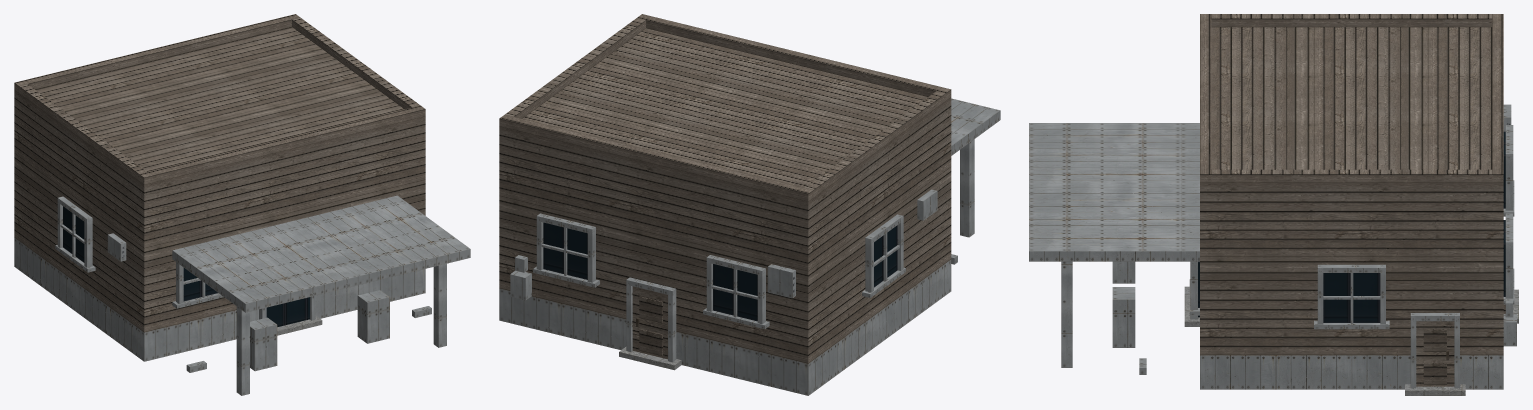
Rendered from marina-fuel-dock_lod0.gltf.
3 renders of one model, left to right at view 1: azimuth 30°, elevation 25°; view 2: azimuth 150°, elevation 25°; view 3: azimuth 270°, elevation 25°, orthographic. The views are drawn at different scales.
Visible parts, largest first — view 1: marina-fuel-dock_upper, marina-fuel-dock__canopy, marina-fuel-dock_base, marina-fuel-dock__parapet_front, marina-fuel-dock__parapet_back, marina-fuel-dock_fen_14-steel-panel_0, marina-fuel-dock_fen_07-glass-curtain-blue_1_t, marina-fuel-dock__parapet_left, marina-fuel-dock__parapet_right, marina-fuel-dock__fuel_pump_b, marina-fuel-dock__fuel_pump_a, marina-fuel-dock__canopy_post_a (+2 smaller); view 2: marina-fuel-dock_upper, marina-fuel-dock_base, marina-fuel-dock_fen_14-steel-panel_0, marina-fuel-dock_fen_07-glass-curtain-blue_1_t, marina-fuel-dock__parapet_back, marina-fuel-dock__parapet_front, marina-fuel-dock__parapet_left, marina-fuel-dock__parapet_right, marina-fuel-dock__canopy, marina-fuel-dock__canopy_post_a, marina-fuel-dock_fen_18-timber-siding_4, marina-fuel-dock_fen_18-timber-siding_5_t (+1 smaller); view 3: marina-fuel-dock_upper, marina-fuel-dock__canopy, marina-fuel-dock_base, marina-fuel-dock_fen_14-steel-panel_0, marina-fuel-dock__parapet_left, marina-fuel-dock__parapet_right, marina-fuel-dock_fen_07-glass-curtain-blue_1_t, marina-fuel-dock__parapet_front, marina-fuel-dock__parapet_back, marina-fuel-dock_fen_18-timber-siding_4, marina-fuel-dock__fuel_pump_b, marina-fuel-dock__canopy_post_b (+3 smaller).
Part boxes in pixels (box(x1,y1,x2,y2)): marina-fuel-dock_upper: box(14, 27, 425, 332); marina-fuel-dock__canopy: box(172, 195, 470, 312); marina-fuel-dock_base: box(14, 237, 425, 361); marina-fuel-dock__parapet_front: box(139, 105, 425, 184); marina-fuel-dock__parapet_back: box(14, 14, 300, 93); marina-fuel-dock_fen_14-steel-panel_0: box(55, 196, 315, 320); marina-fuel-dock_fen_07-glass-curtain-blue_1_t: box(63, 206, 309, 326); marina-fuel-dock__parapet_left: box(19, 84, 147, 180); marina-fuel-dock__parapet_right: box(292, 17, 420, 109); marina-fuel-dock__fuel_pump_b: box(357, 290, 389, 343); marina-fuel-dock__fuel_pump_a: box(250, 317, 277, 371); marina-fuel-dock__canopy_post_a: box(236, 306, 249, 395); marina-fuel-dock_upper: box(499, 28, 951, 363); marina-fuel-dock_base: box(499, 259, 951, 395); marina-fuel-dock_fen_14-steel-panel_0: box(510, 189, 937, 362); marina-fuel-dock_fen_07-glass-curtain-blue_1_t: box(543, 222, 897, 321); marina-fuel-dock__parapet_back: box(499, 114, 813, 201); marina-fuel-dock__parapet_front: box(637, 14, 951, 100); marina-fuel-dock__parapet_left: box(805, 91, 945, 197); marina-fuel-dock__parapet_right: box(505, 18, 645, 118); marina-fuel-dock__canopy: box(951, 98, 1000, 155); marina-fuel-dock__canopy_post_a: box(960, 139, 974, 237); marina-fuel-dock_fen_18-timber-siding_4: box(632, 286, 667, 359); marina-fuel-dock_fen_18-timber-siding_5_t: box(639, 296, 662, 355); marina-fuel-dock_upper: box(1200, 27, 1503, 354); marina-fuel-dock__canopy: box(1029, 123, 1199, 261); marina-fuel-dock_base: box(1200, 355, 1503, 389); marina-fuel-dock_fen_14-steel-panel_0: box(1189, 104, 1516, 388); marina-fuel-dock__parapet_left: box(1211, 14, 1492, 27); marina-fuel-dock__parapet_right: box(1211, 169, 1492, 182); marina-fuel-dock_fen_07-glass-curtain-blue_1_t: box(1198, 131, 1505, 322); marina-fuel-dock__parapet_front: box(1200, 14, 1211, 182); marina-fuel-dock__parapet_back: box(1492, 14, 1503, 182); marina-fuel-dock_fen_18-timber-siding_4: box(1416, 304, 1505, 386); marina-fuel-dock__fuel_pump_b: box(1112, 287, 1135, 347); marina-fuel-dock__canopy_post_b: box(1061, 261, 1072, 367).
Bounding box in the file's own units: 10.68 × 6.25 × 12.9.
